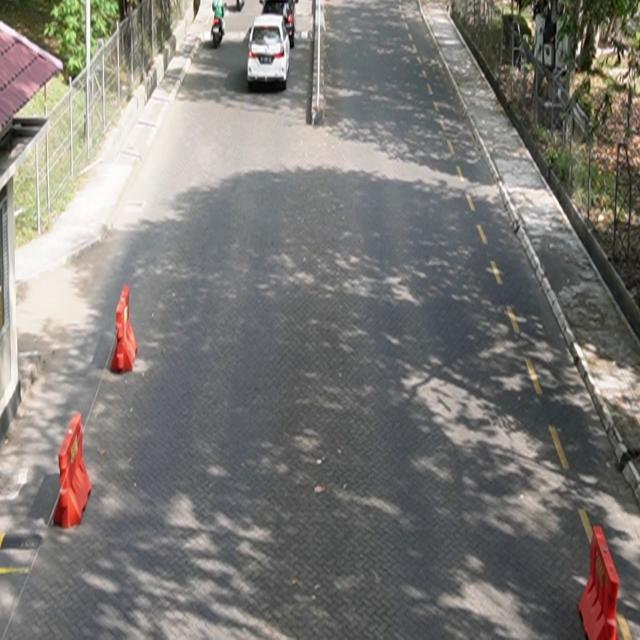car: (247, 14, 291, 91)
